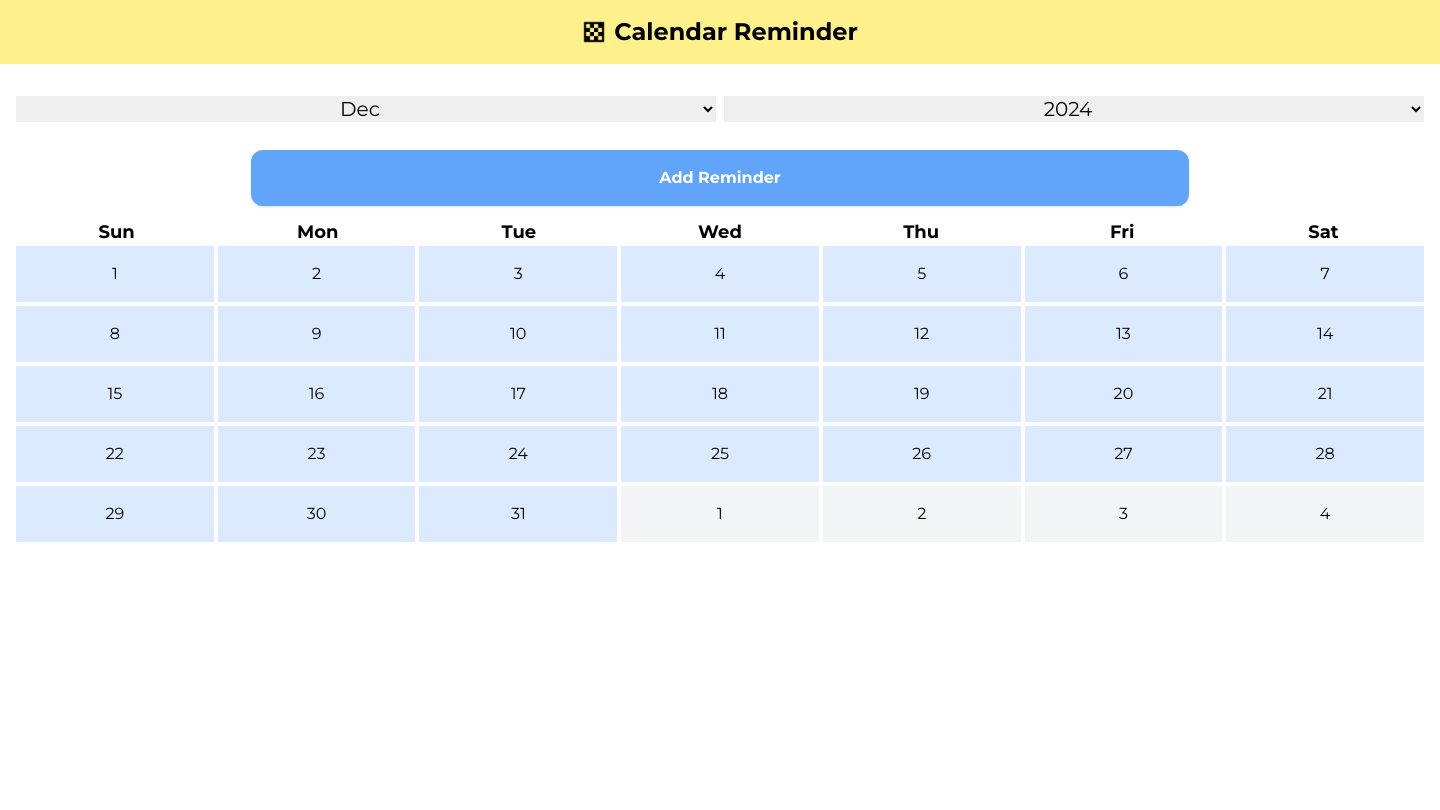
<CalendarReminder /> › should render calendar and reminders
Expected: the button "Add Reminder" is shown, top-left (251, 150), bottom-right (1189, 206)
Expected: the dropdown named "choose month" is shown, top-left (16, 96), bottom-right (716, 122)
Click the button named "25-11-2024" at (720, 454), box top-left (621, 426), bottom-right (819, 482)
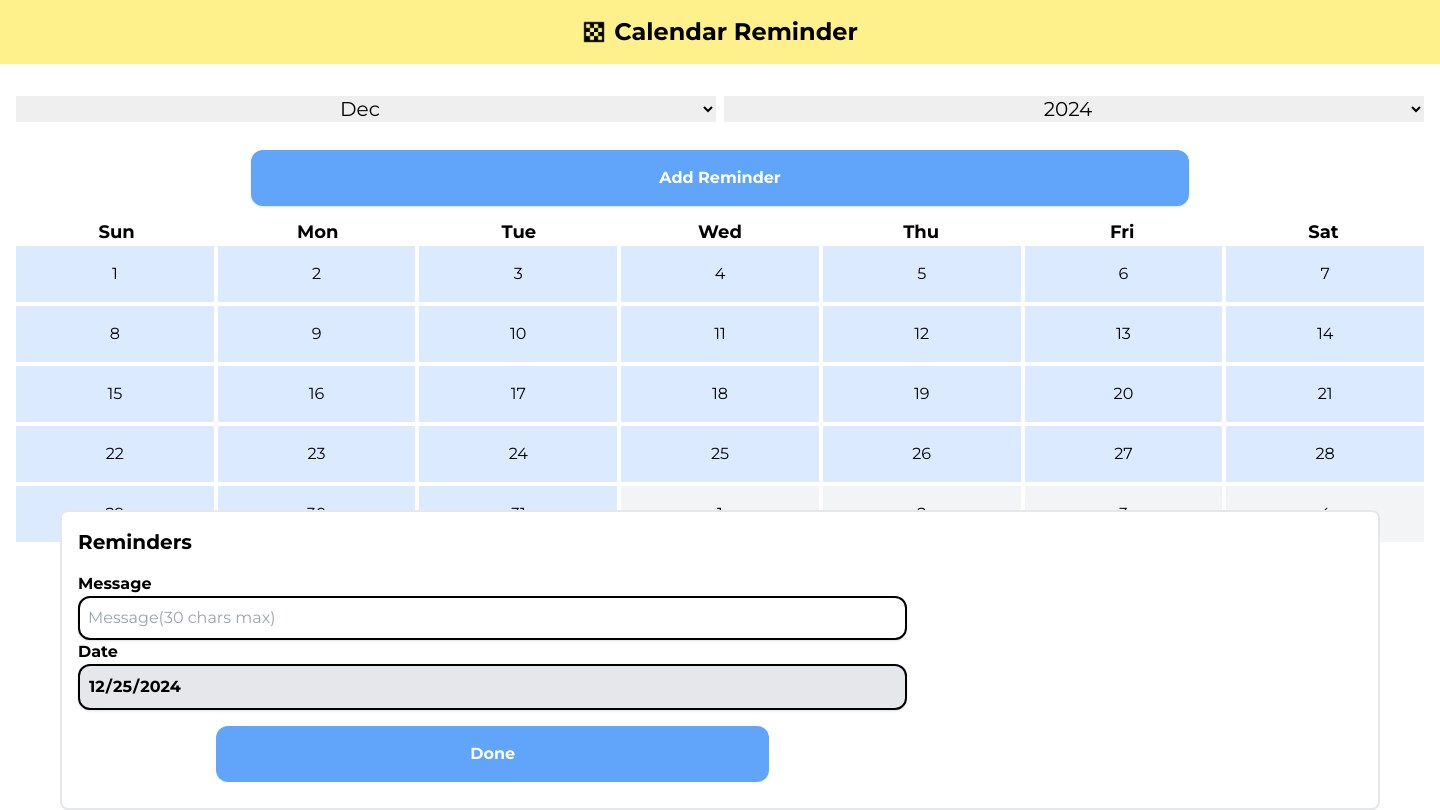
Expected: the field labelled "Message" is shown
Expected: the button "Done" is shown, top-left (216, 726), bottom-right (769, 782)
Type "abc" into the field labelled "Message" at (493, 618), box top-left (78, 596), bottom-right (907, 640)
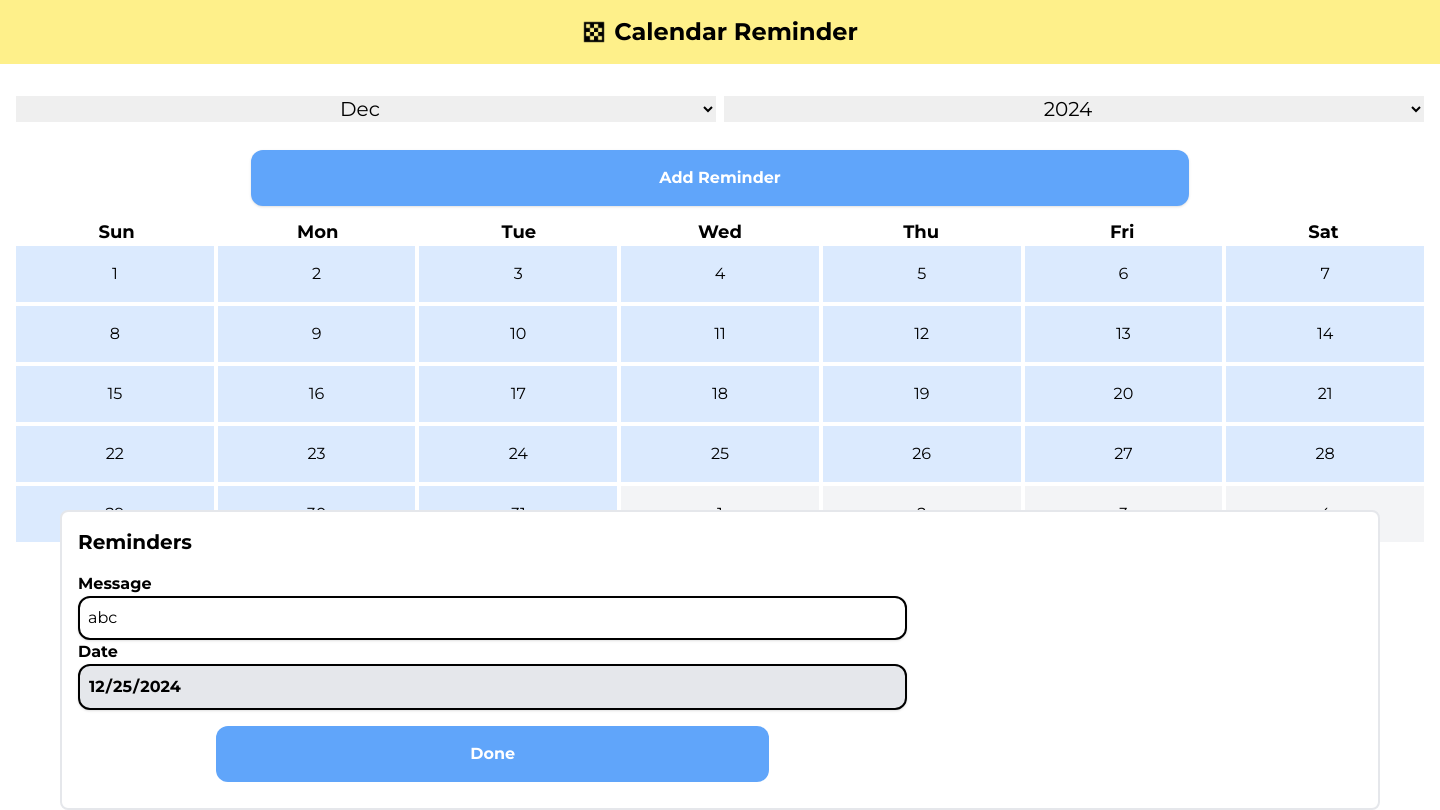
Click the button "Done" at (493, 754), box top-left (216, 726), bottom-right (769, 782)
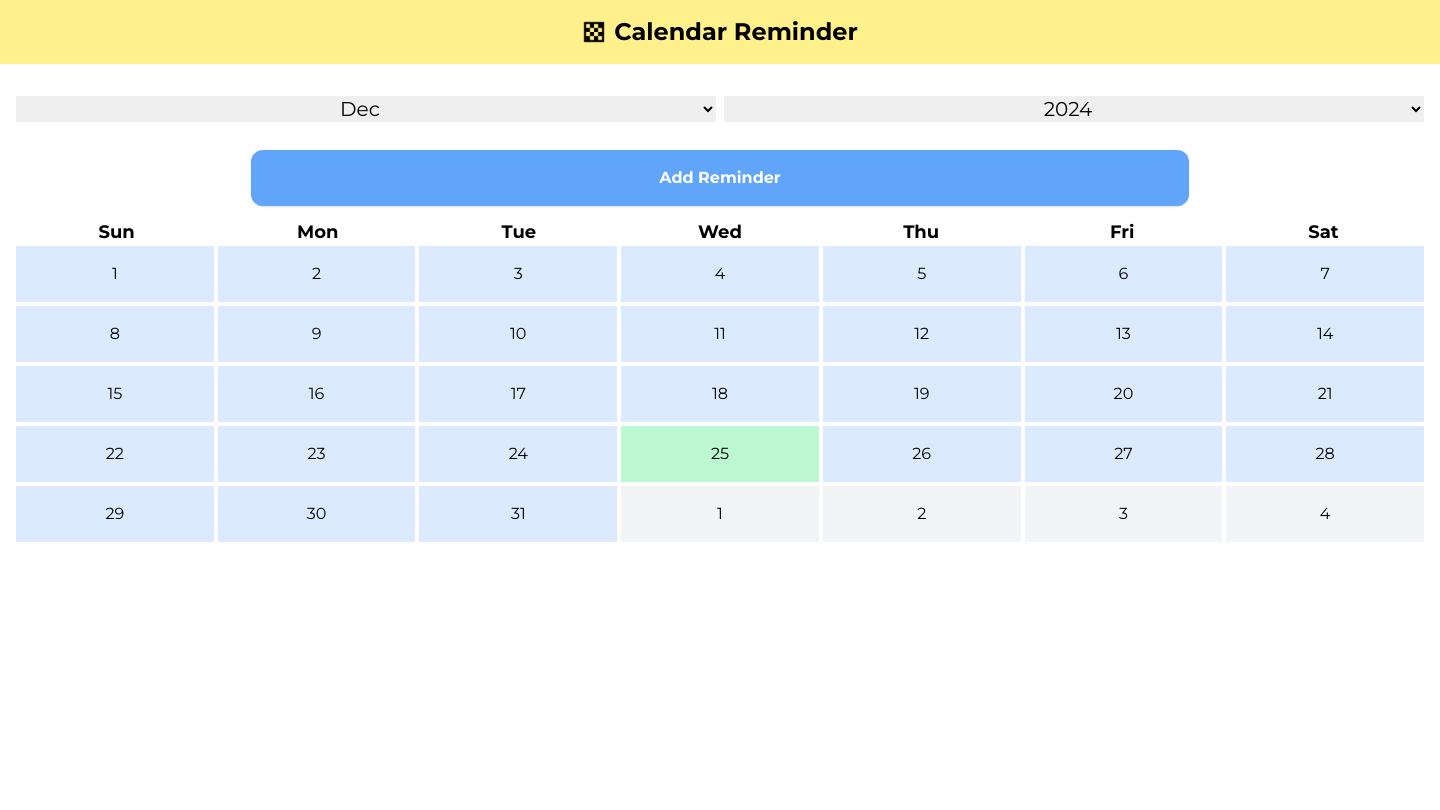
Click the button named "25-11-2024" at (720, 454), box top-left (621, 426), bottom-right (819, 482)
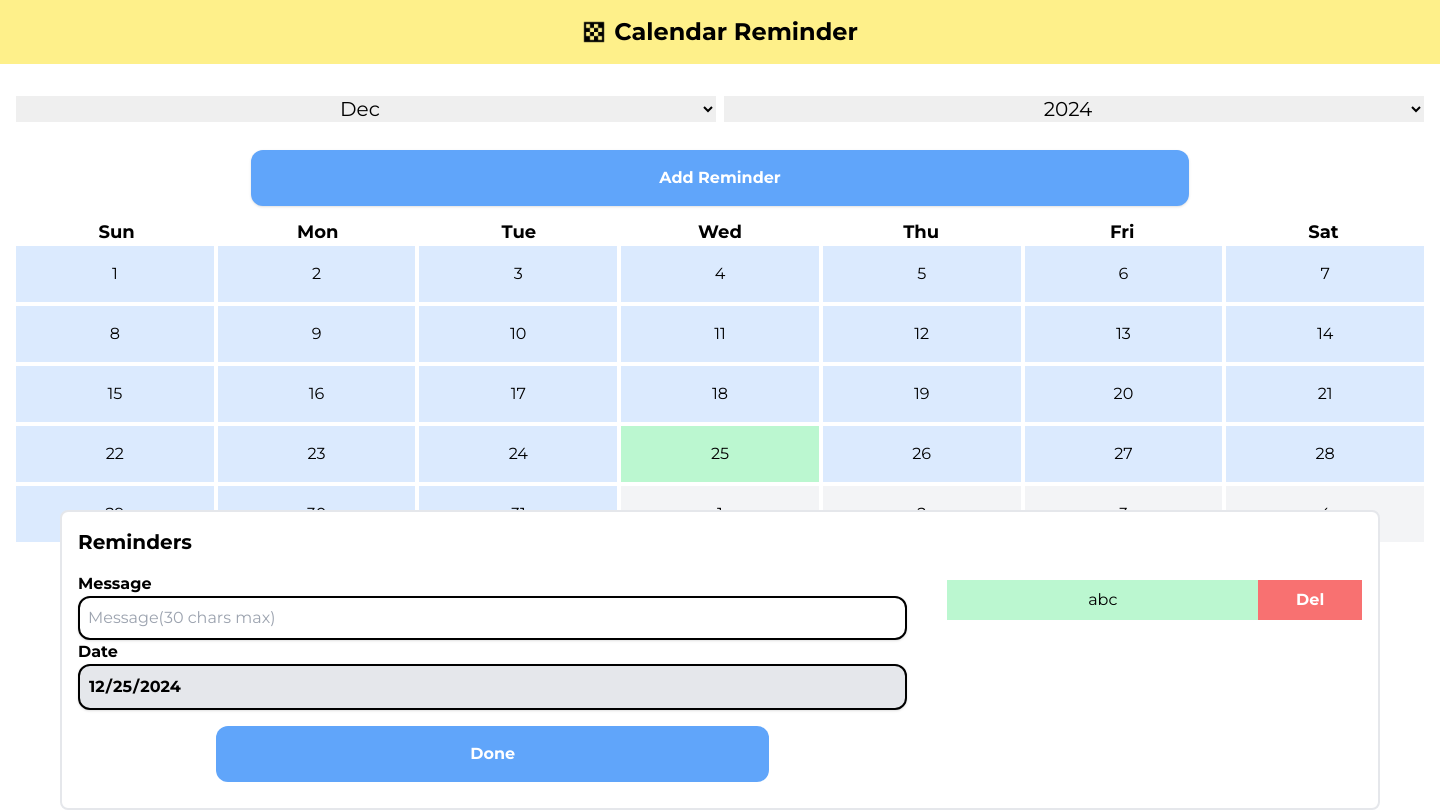
Expected: the button "abc" is shown, top-left (947, 580), bottom-right (1258, 620)
Expected: the button with aria-label "delete abc" is shown
Click the button with aria-label "delete abc" at (1310, 600), box top-left (1258, 580), bottom-right (1362, 620)
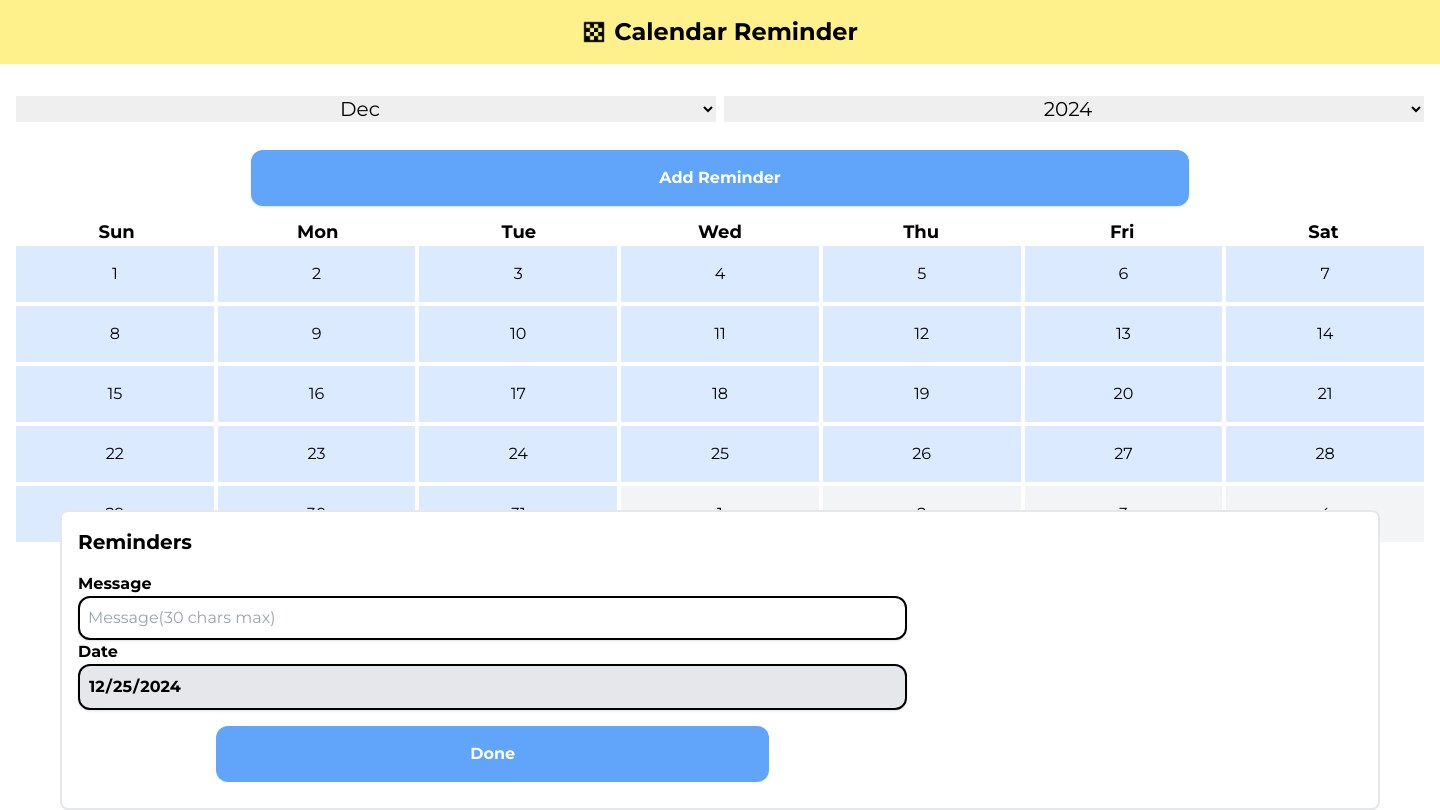
Expected: the button "abc" is gone
